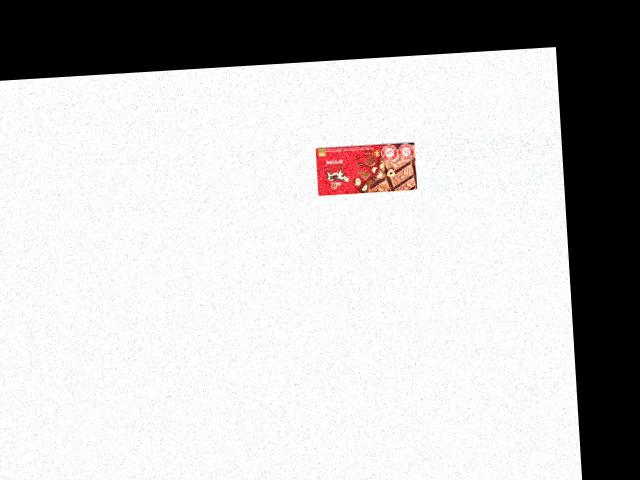chocolate: (314, 140, 417, 196)
